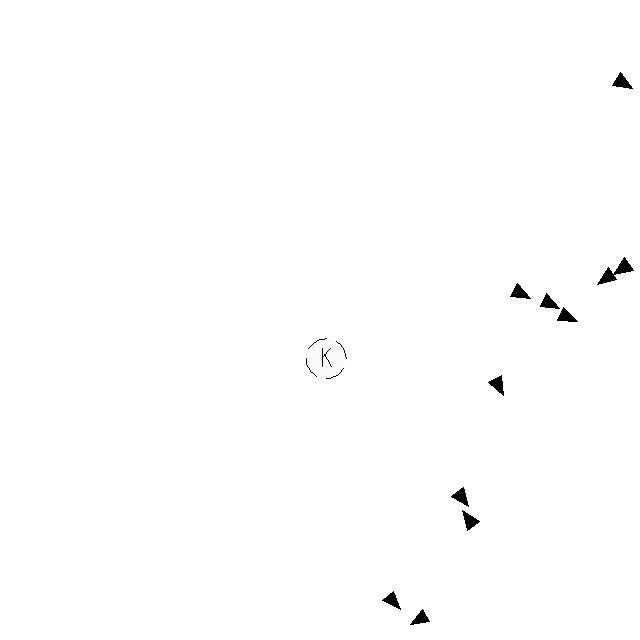Kyst: (305, 336, 348, 380)
Otmetka: (460, 508, 483, 533), (611, 70, 635, 92), (381, 589, 403, 612), (487, 373, 506, 398), (613, 255, 635, 276), (596, 266, 618, 287), (450, 486, 471, 508), (409, 608, 432, 627), (508, 282, 532, 300), (538, 292, 561, 310), (556, 306, 580, 323)
